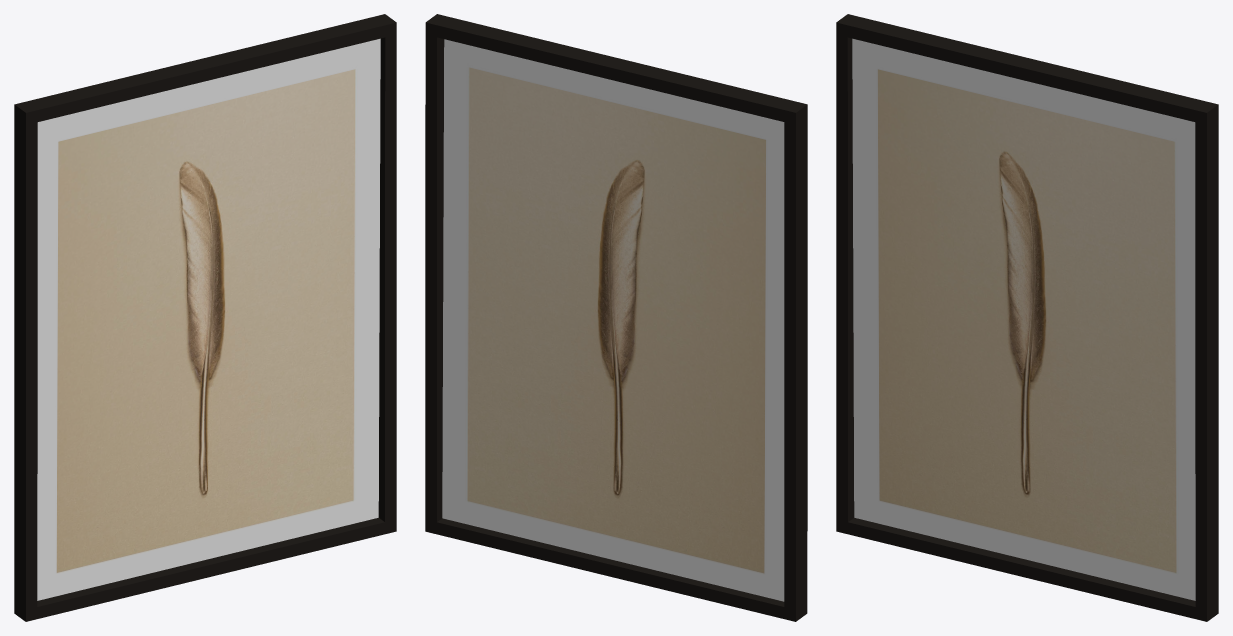
File: P655144_guldfjader_30x40_WEBB.glb
The picture shows the model from 3 angles, left to right: view 1: azimuth 30°, elevation 25°; view 2: azimuth 150°, elevation 25°; view 3: azimuth 330°, elevation 25°; orthographic projection.
Parts seen in each view (by area): view 1: P655208_vintervass_30x40_WEBB, Frame2; view 2: P655208_vintervass_30x40_WEBB, Frame2; view 3: P655208_vintervass_30x40_WEBB, Frame2.
Boxes of the visible parts, left/top/right/bottom form: P655208_vintervass_30x40_WEBB: left=37, top=38, right=380, bottom=600; Frame2: left=14, top=14, right=396, bottom=621; P655208_vintervass_30x40_WEBB: left=442, top=39, right=784, bottom=601; Frame2: left=425, top=14, right=807, bottom=621; P655208_vintervass_30x40_WEBB: left=852, top=38, right=1195, bottom=600; Frame2: left=836, top=14, right=1218, bottom=621.
Size of the model in its own units: 0.2576 by 0.3381 by 0.0143.
2 materials, 2 textured.
